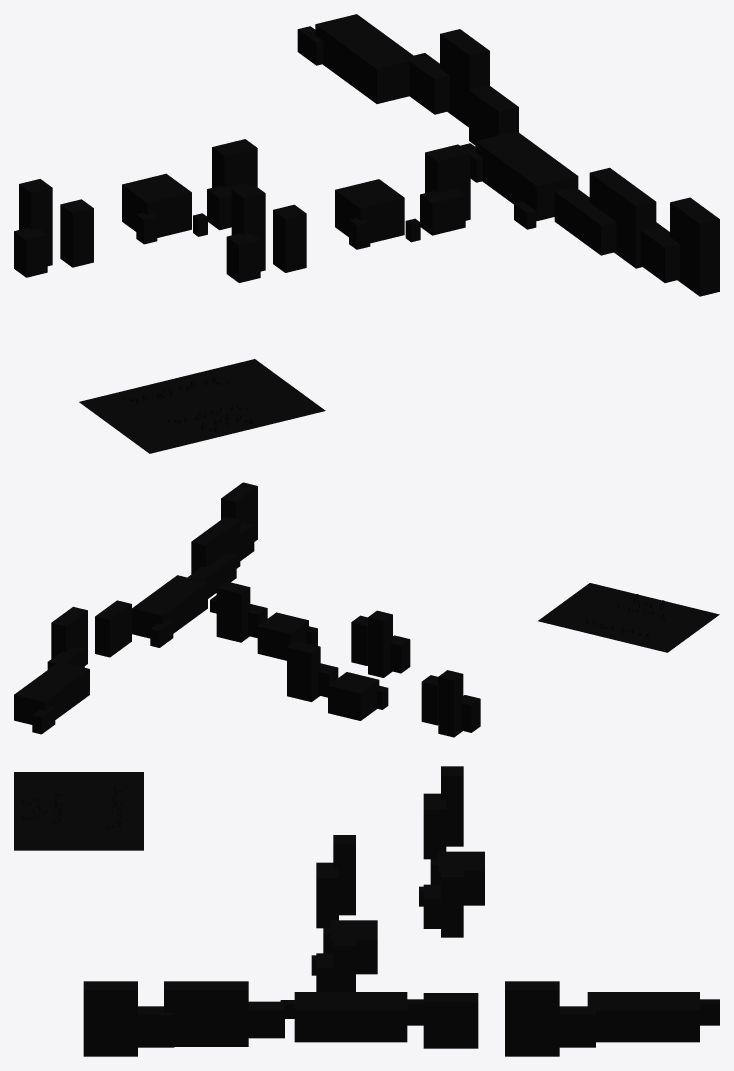
The model's file is Intro3.fbx.
3 views of the same model, one above another, from view 1: azimuth 30°, elevation 25°; view 2: azimuth 150°, elevation 25°; view 3: azimuth 270°, elevation 25° (orthographic). The views are drawn at different scales.
Visible parts, largest first — view 1: Scene_3; view 2: Scene_3; view 3: Scene_3.
Boxes of the visible parts, box(x1,y1,x2,y2) form: Scene_3: box(14, 14, 719, 453); Scene_3: box(14, 482, 719, 737); Scene_3: box(14, 766, 719, 1056).
Bounding box in the file's own units: 207589 × 25206 × 227901.
